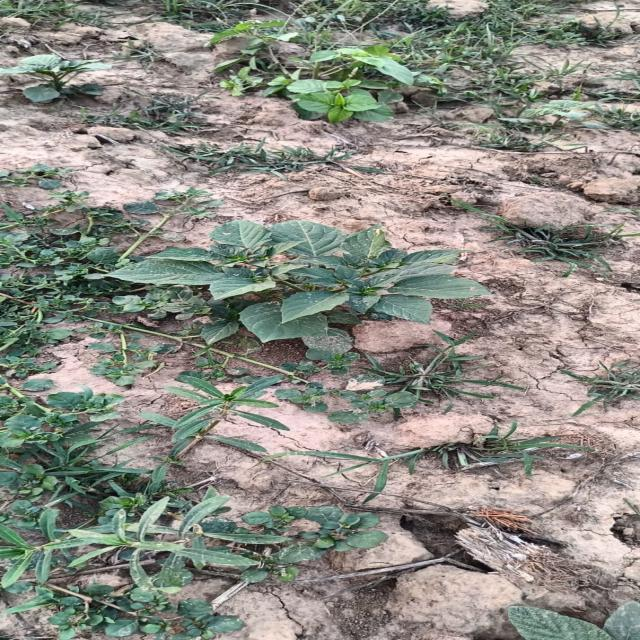plant: (107, 221, 488, 341)
